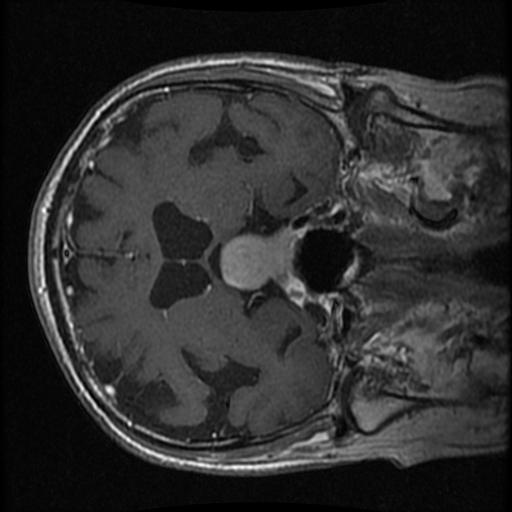pituitary tumour: (217, 226, 301, 289)
